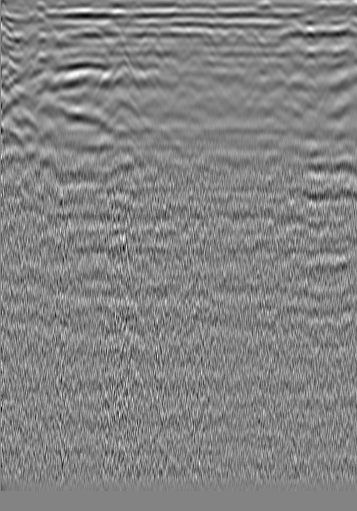가스: (101, 180, 147, 219)
상수: (26, 8, 46, 28)
오수: (303, 20, 323, 40)
우수: (167, 24, 187, 44)
